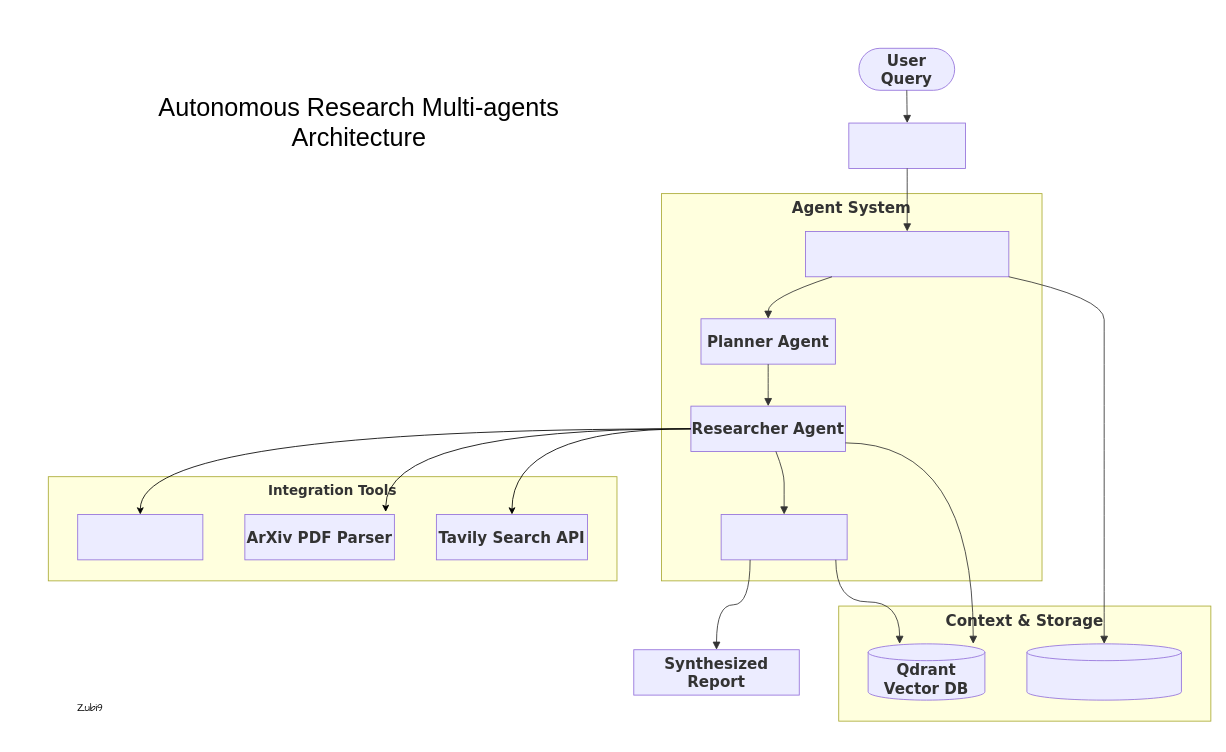
Image size: 1226x752. Some labels were removed from this diagram. Here are the shapes that lost their labels. From the top down, the centre of each, then its label:
(x=907, y=145): FastAPI API
(x=907, y=254): LangGraph State Machine
(x=140, y=537): Web Scraper
(x=783, y=537): Writer Agent
(x=1103, y=671): Redis Short-Term Cache
